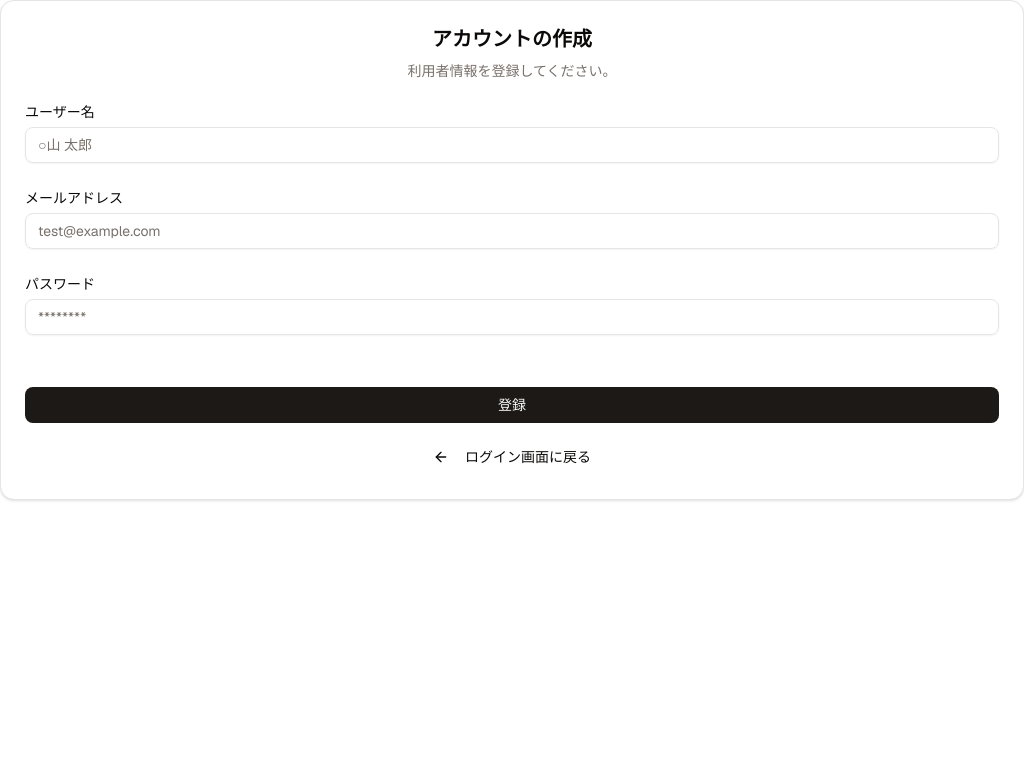
SignupForm コンポーネント › バリデーション › 不正なメール形式でサブミットするとバリデーションエラーが表示されること
This screenshot has width=1024, height=768.
Type "testuser" into the field with placeholder "○山 太郎" at (512, 145), box [25,127,999,163]
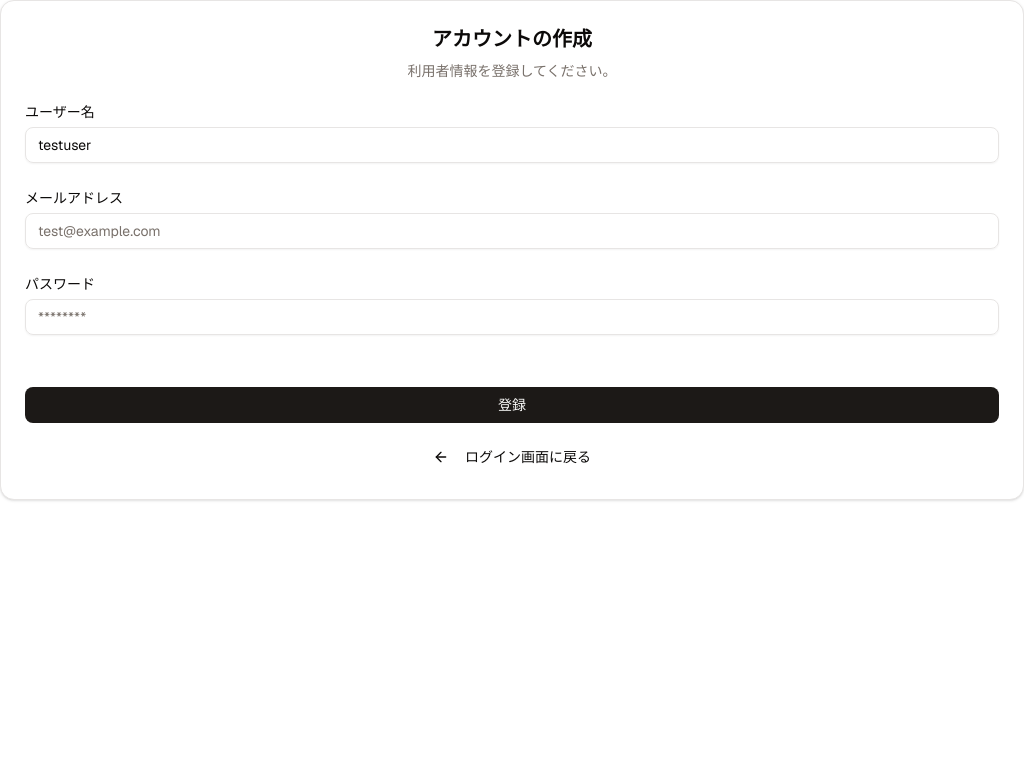
Type "invalid-email" into the field with placeholder "test@example.com" at (512, 231), box [25,213,999,249]
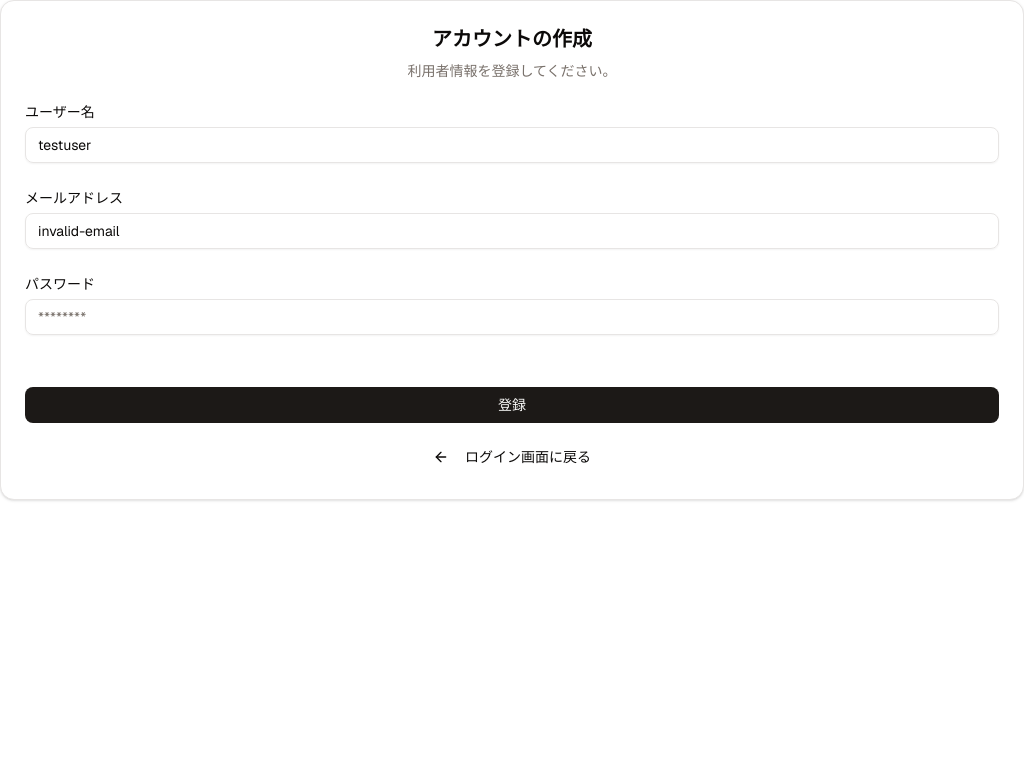
Type "password123" into the password field with placeholder "********" at (512, 317), box [25,299,999,335]
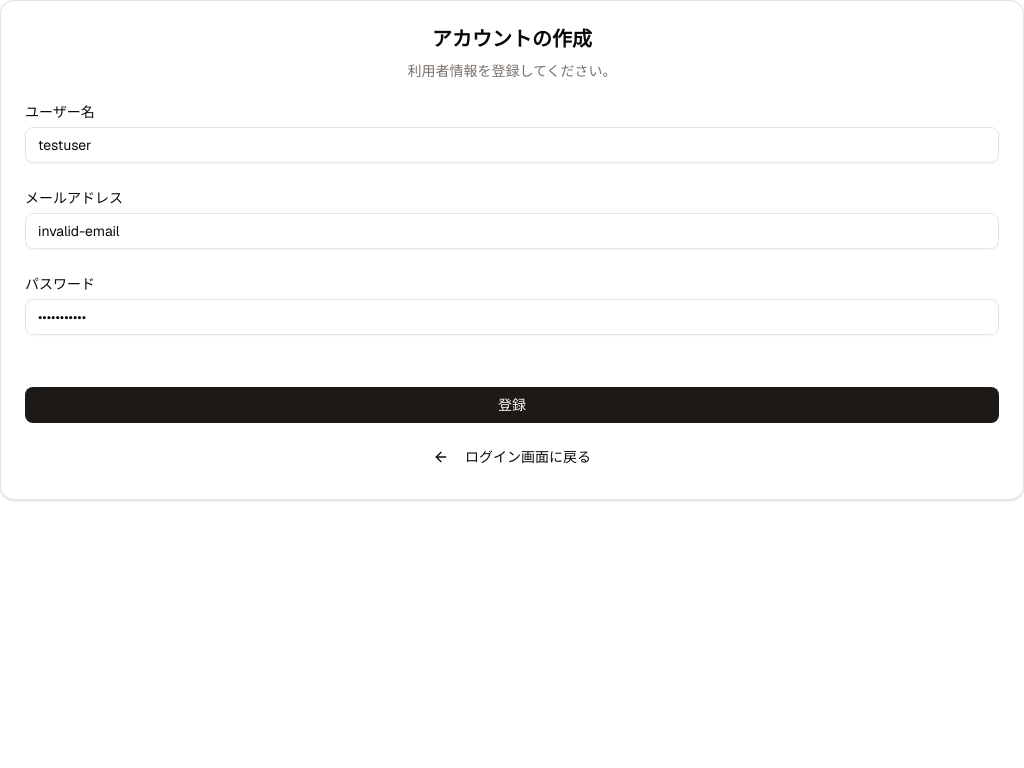
Submit the form "登録", box [25,105,999,475]
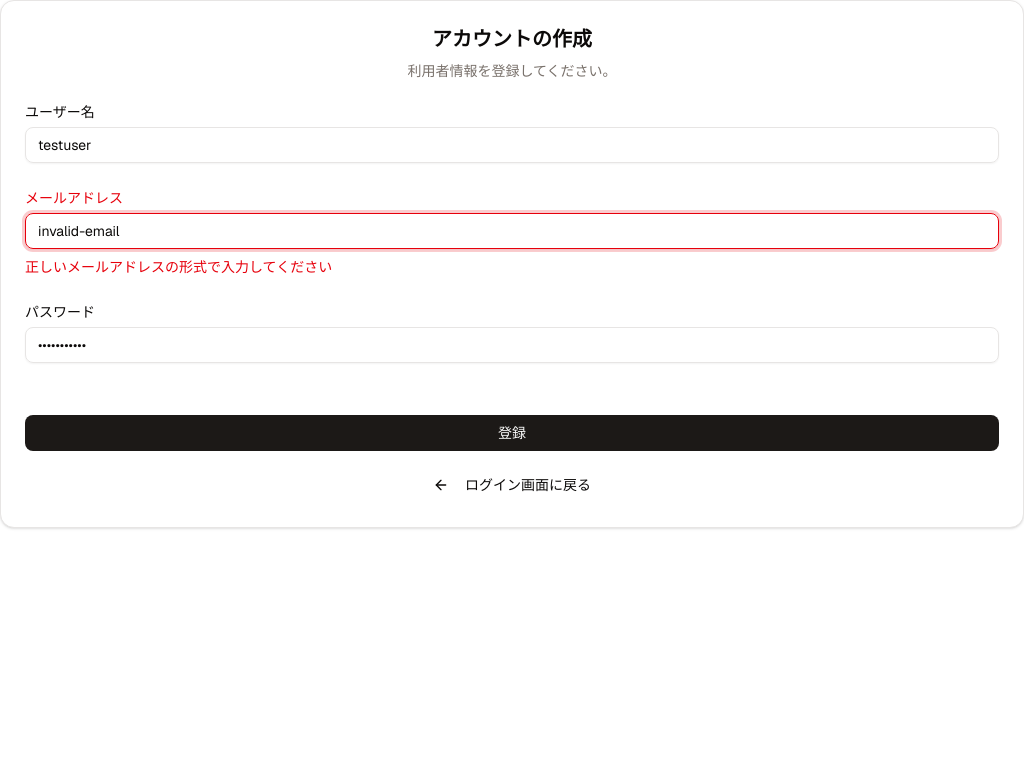
Expected: the text "正しいメールアドレスの形式で入力してください" is shown, [25,258,332,276]
